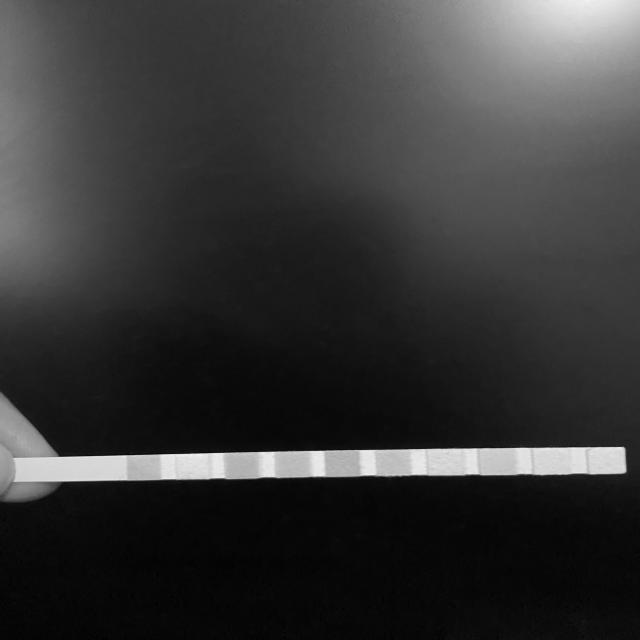Bilirubin: (177, 454, 211, 478)
Blood: (326, 452, 359, 476)
Glucose: (128, 456, 159, 479)
Ketone: (226, 453, 258, 479)
Leukocytes: (591, 449, 624, 473)
Nitrite: (535, 449, 569, 474)
Protein: (428, 450, 462, 475)
SpGravity: (276, 452, 310, 476)
Urobilinogen: (481, 449, 514, 475)
background: (0, 0, 640, 640)
pH: (377, 450, 409, 475)
strip: (13, 447, 626, 482)
